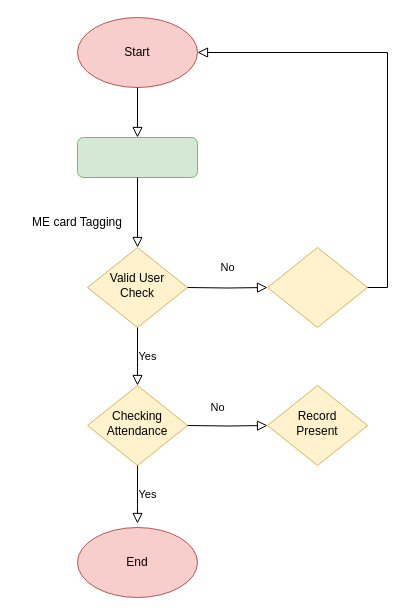
Some shapes in this 415 by 615 pixel diagram are drawn without their labels. Here are the shapes that lost their labels. From the top down, the box of each, then its label:
(76, 136, 198, 178): RFID Reader
(266, 246, 368, 328): Add Valid User
